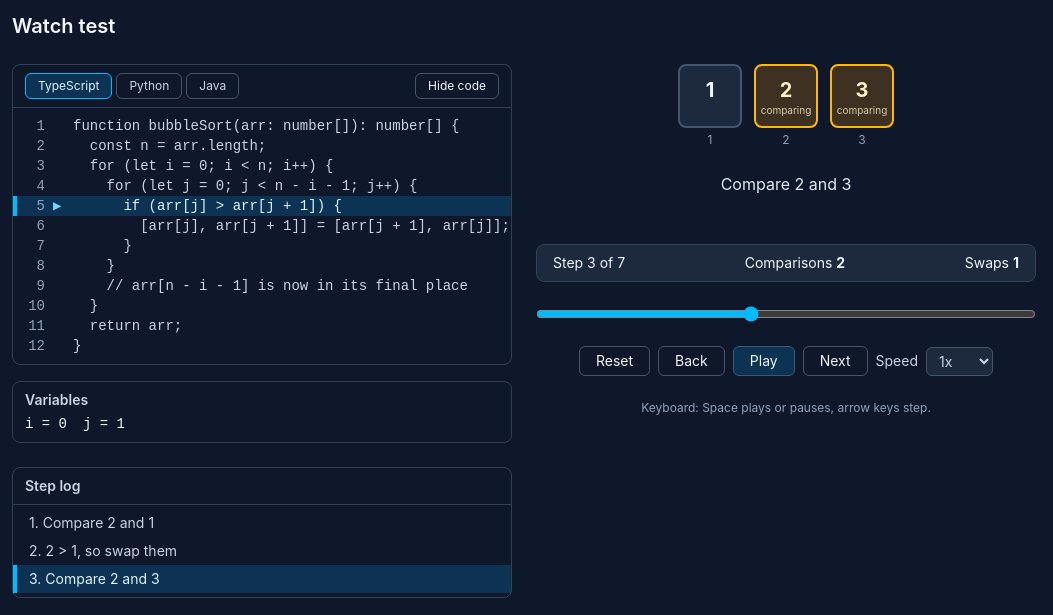
Test: WatchScreen › Back and Reset move backwards
Click the button "Back": (691,361) [658, 346, 725, 376]
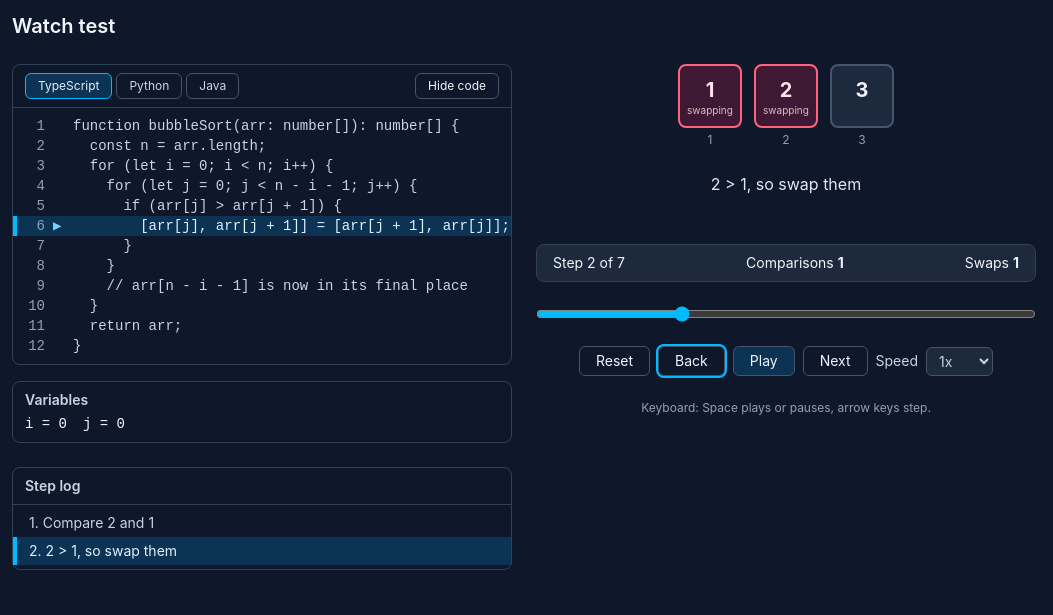
Result: the text "Step 2 of 7" is shown at [553, 253, 625, 273]
Click the button "Reset": (615,361) [579, 346, 650, 376]
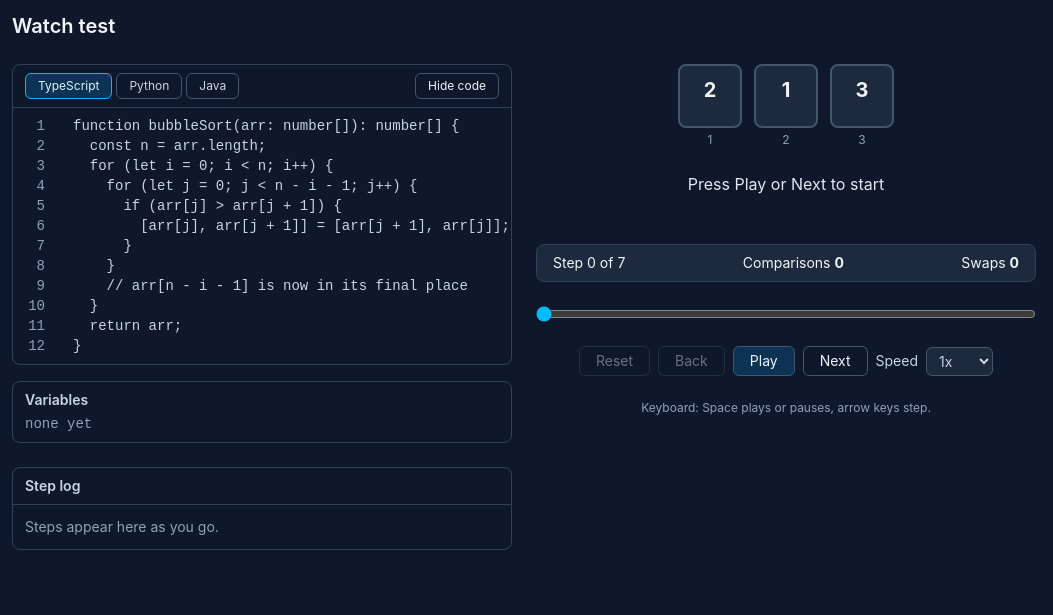
Result: the text "Step 0 of 7" is shown at [553, 253, 625, 273]
